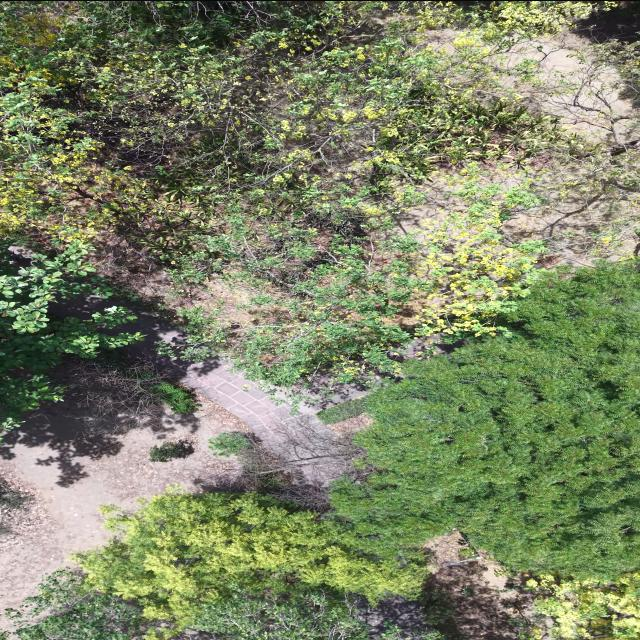DRY_AREA: (0, 312, 348, 629), (0, 310, 348, 609), (0, 354, 347, 609), (0, 399, 243, 628), (105, 308, 367, 486), (123, 312, 367, 488), (474, 29, 639, 266), (503, 26, 639, 266), (176, 359, 351, 486), (181, 363, 351, 485), (358, 531, 534, 639), (362, 531, 531, 639), (474, 30, 631, 138), (491, 31, 631, 139), (503, 163, 639, 266), (424, 531, 530, 639), (425, 560, 528, 639), (575, 1, 639, 41)
PATHWAYS: (107, 310, 351, 486), (180, 360, 351, 486)
VEGETATION_TREE: (0, 1, 639, 639), (29, 263, 639, 638), (1, 1, 579, 387), (2, 1, 547, 263), (330, 263, 639, 577), (180, 183, 540, 387), (2, 493, 453, 639), (75, 492, 426, 637), (76, 492, 426, 626), (505, 23, 639, 263), (0, 241, 142, 429), (169, 590, 441, 639), (192, 589, 442, 639), (50, 358, 199, 434), (10, 570, 149, 639), (525, 571, 639, 639), (208, 432, 305, 500), (445, 1, 615, 35), (0, 477, 34, 535), (147, 380, 199, 413), (317, 396, 366, 424), (208, 432, 250, 455), (149, 440, 193, 461)
